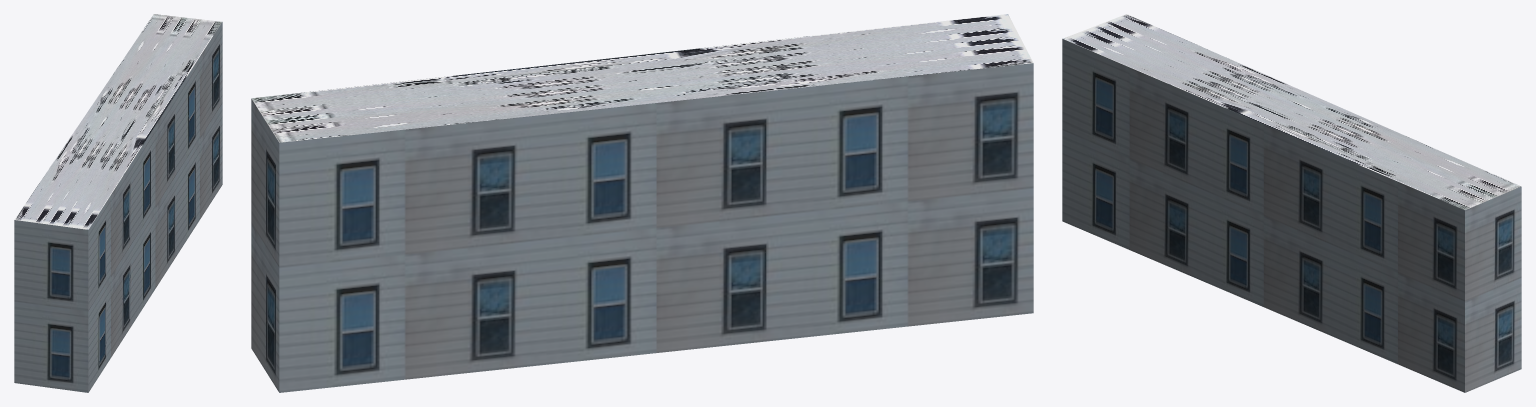
Rendered from ResTex__3601.fbx.
3 renders of one model, left to right at view 1: azimuth 30°, elevation 25°; view 2: azimuth 150°, elevation 25°; view 3: azimuth 270°, elevation 25°, orthographic. The views are drawn at different scales.
Parts seen in each view (by area): view 1: CityEngineMaterial_18_m, CityEngineMaterial_4_m; view 2: CityEngineMaterial_18_m, CityEngineMaterial_4_m; view 3: CityEngineMaterial_18_m, CityEngineMaterial_4_m.
Part boxes in pixels (x1,y1,x2,y2): CityEngineMaterial_18_m: (14,22,222,392); CityEngineMaterial_4_m: (14,14,222,229); CityEngineMaterial_18_m: (251,63,1033,392); CityEngineMaterial_4_m: (251,14,1033,142); CityEngineMaterial_18_m: (1062,39,1521,392); CityEngineMaterial_4_m: (1063,14,1520,209).
Size of the model in its own units: 13.83 by 6 by 13.66.
2 materials, 2 textured.
